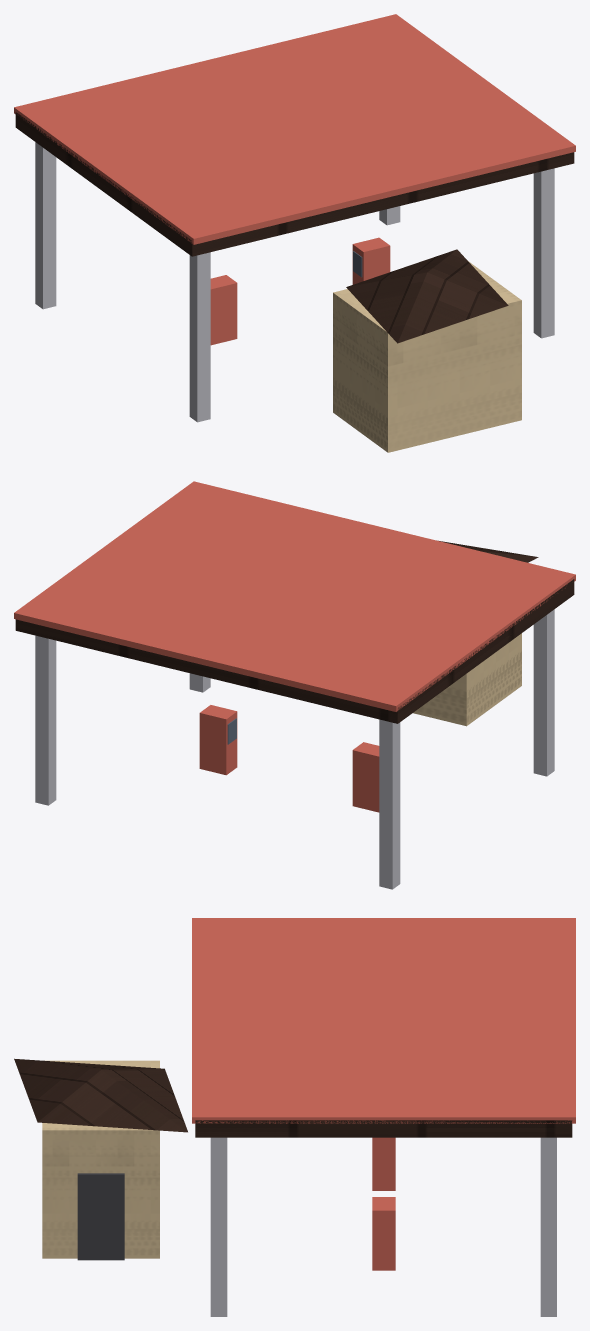
File: gas.glb
The picture shows the model from 3 angles, top to bottom: view 1: azimuth 30°, elevation 25°; view 2: azimuth 150°, elevation 25°; view 3: azimuth 270°, elevation 25°; orthographic projection. The views are drawn at different scales.
Parts seen in each view (by area): view 1: trim, kiosk, kioskroof, canopy, post, post.002, post.001, pump, pump.001; view 2: trim, canopy, kiosk, post.001, post.003, post, pump.001, pump; view 3: trim, kiosk, kioskroof, canopy, kdoor, post.002, post.003, pump.001, pump.
Part boxes in pixels (x1,y1,x2,y2): trim: (14,14,575,244); kiosk: (333,261,521,452); kioskroof: (346,249,508,343); canopy: (15,112,574,256); post: (189,252,210,422); post.002: (533,168,554,338); post.001: (35,142,56,309); pump: (210,275,237,345); pump.001: (352,237,390,284); trim: (14,481,575,711); canopy: (15,579,574,723); kiosk: (413,633,521,726); post.001: (379,719,400,889); post.003: (35,635,56,805); post: (533,609,554,776); pump.001: (199,705,237,775); pump: (352,742,379,812); trim: (192,918,575,1123); kiosk: (42,1060,159,1258); kioskroof: (14,1058,187,1132); canopy: (195,1120,572,1137); kdoor: (77,1173,124,1260); post.002: (210,1137,227,1316); post.003: (540,1137,556,1316); pump.001: (372,1197,395,1270); pump: (372,1137,395,1190).
Bounding box in the file's own units: 10 × 4.83 × 11.92.
7 materials, 3 textured.
